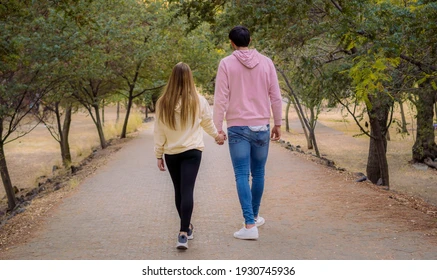person: (212, 25, 283, 243), (152, 58, 221, 251)
